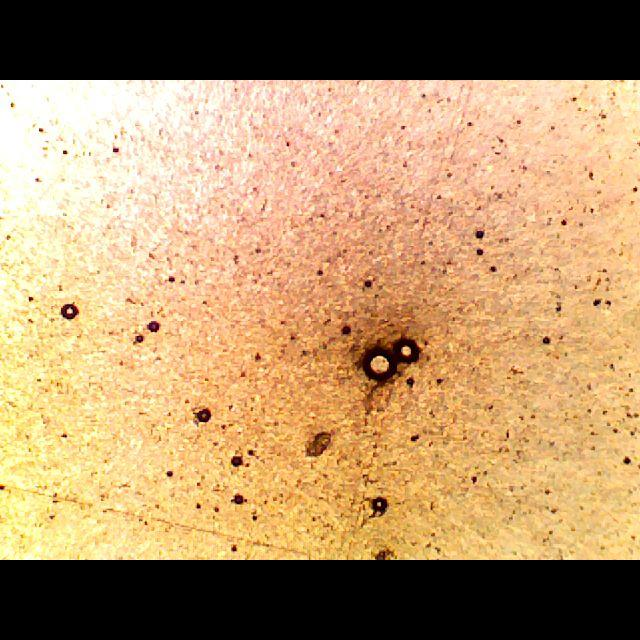microbeads: (359, 346, 398, 382), (392, 331, 424, 367), (58, 302, 80, 322), (193, 403, 211, 422)
